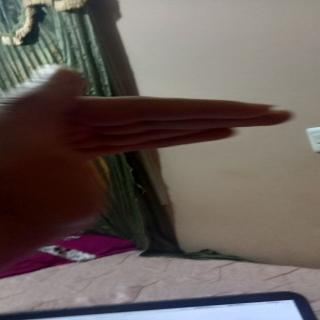KHAA: (0, 58, 320, 230)
